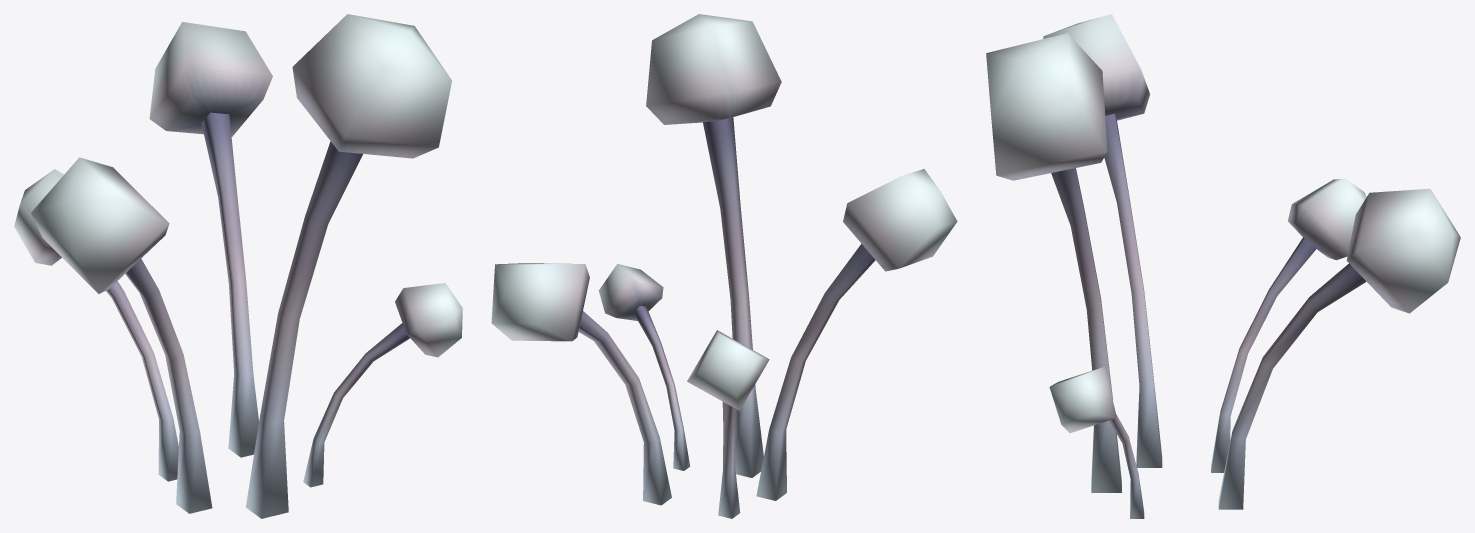
File: Shroom bunch.FBX
The picture shows the model from 3 angles, left to right: view 1: azimuth 30°, elevation 25°; view 2: azimuth 150°, elevation 25°; view 3: azimuth 270°, elevation 25°; orthographic projection. The views are drawn at different scales.
Parts seen in each view (by area): view 1: Shroom; view 2: Shroom; view 3: Shroom.
Boxes of the visible parts, bbox=[...] form: Shroom: bbox=[14, 14, 462, 518]; Shroom: bbox=[491, 14, 957, 518]; Shroom: bbox=[986, 14, 1460, 518].
Bounding box in the file's own units: 6.78 × 7.82 × 6.98.
